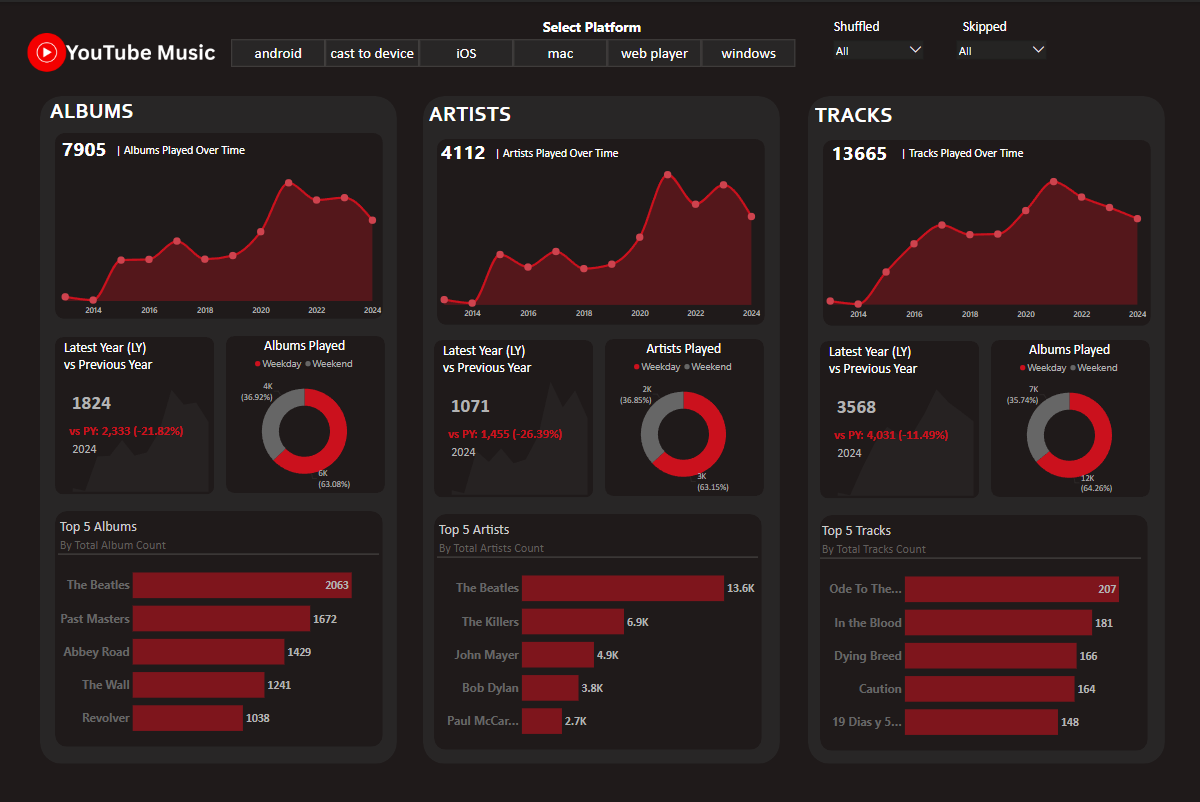

The page's visual inventory and layout, read from the dashboard file:
{"tool":"powerbi","page":{"name":"Main DashBoard","canvas":[3300,2200],"ordinal":0},"visuals":[{"type":"image","box":[46.6,38.4,573.3,200.2],"z":0},{"type":"shape","box":[109.7,257.9,979.3,1832.4],"z":1000},{"type":"textbox","box":[131.7,257.9,260.6,101.5],"z":2000},{"type":"shape","box":[150.9,359.4,899.8,510.2],"z":3000},{"type":"card","fields":{"Values":["yt_history.No of Albums"]},"box":[150.9,359.4,161.8,82.3],"z":4000},{"type":"textbox","box":[312.7,381.3,414.2,60.3],"z":5000},{"type":"shape","box":[150.9,919,437,432],"z":6000},{"type":"areaChart","fields":{"Category":["Date table.Year"],"Y":["yt_history.No of Albums"]},"box":[150.9,441.6,899.8,427.9],"z":7000},{"type":"areaChart","fields":{"Category":["Date table.Year"],"Y":["yt_history.No of Albums"]},"box":[150.9,1015,436.2,334.7],"z":8000},{"type":"textbox","box":[170.1,919,304.5,118],"z":9000},{"type":"card","fields":{"Values":["yt_history.CurrentYearAlbums"]},"box":[170.1,1053.4,161.8,82.3],"z":10000},{"type":"card","fields":{"Values":["yt_history.PY and YOY Albums KPI"]},"box":[170.1,1132.9,351.1,82.3],"z":11000},{"type":"slicer","fields":{"Values":["yt_history.platform"]},"box":[609,96,1596.5,87.8],"z":12000},{"type":"shape","box":[620,916.2,436.2,430.7],"z":13000},{"type":"card","fields":{"Values":["yt_history.Max Year"]},"box":[150.9,1182.3,161.8,82.3],"z":14000},{"type":"shape","box":[150.9,1396.3,899.8,647.4],"z":15000},{"type":"donutChart","title":"Albums Played","fields":{"Category":["Date table.Weekday_weekend"],"Y":["yt_history.No of Albums"]},"box":[620,919,430.7,427.9],"z":16000},{"type":"barChart","title":"Top 5 Albums","fields":{"Category":["yt_history.album_name"],"Y":["CountNonNull(yt_history.album_name)"]},"box":[159.1,1415.5,880.5,628.2],"z":17000},{"type":"shape","box":[2216.5,257.9,979.3,1832.4],"z":18000},{"type":"shape","box":[1160.3,257.9,979.3,1832.4],"z":19000},{"type":"textbox","box":[1170.3,265.1,260.6,101.5],"z":20000},{"type":"shape","box":[1199.6,376.6,899.8,510.2],"z":21000},{"type":"card","fields":{"Values":["yt_history.No of Artists"]},"box":[1189.6,366.6,161.8,82.3],"z":22000},{"type":"textbox","box":[1351.4,388.6,414.2,60.3],"z":23000},{"type":"shape","box":[1189.6,926.2,437,432],"z":24000},{"type":"areaChart","fields":{"Category":["Date table.Year"],"Y":["yt_history.No of Artists"]},"box":[1189.6,448.9,899.8,427.9],"z":25000},{"type":"areaChart","fields":{"Category":["Date table.Year"],"Y":["yt_history.No of Artists"]},"box":[1189.6,1022.2,436.2,334.7],"z":26000},{"type":"textbox","box":[1208.8,926.2,304.5,118],"z":27000},{"type":"card","fields":{"Values":["yt_history.LatestYearArtists"]},"box":[1208.8,1060.6,161.8,82.3],"z":28000},{"type":"card","fields":{"Values":["yt_history.PY and YOY Artists KPI"]},"box":[1208.8,1140.2,351.1,82.3],"z":29000},{"type":"shape","box":[1658.6,923.5,436.2,430.7],"z":30000},{"type":"card","fields":{"Values":["yt_history.Max Year"]},"box":[1189.6,1189.6,161.8,82.3],"z":31000},{"type":"shape","box":[1189.6,1403.5,899.8,647.4],"z":32000},{"type":"donutChart","title":"Artists Played","fields":{"Category":["Date table.Weekday_weekend"],"Y":["yt_history.No of Artists"]},"box":[1658.6,926.2,430.7,427.9],"z":33000},{"type":"barChart","title":"Top 5 Artists","fields":{"Category":["yt_history.artist_name"],"Y":["CountNonNull(yt_history.artist_name)"]},"box":[1197.8,1422.7,880.5,628.2],"z":34000},{"type":"textbox","box":[2229.2,267.9,260.6,101.5],"z":35000},{"type":"shape","box":[2258.4,379.4,899.8,510.2],"z":36000},{"type":"card","fields":{"Values":["yt_history.No of Tracks"]},"box":[2249.4,370.3,216.7,82.3],"z":37000},{"type":"textbox","box":[2466.1,389.5,414.2,60.3],"z":38000},{"type":"shape","box":[2248.4,929,437,432],"z":39000},{"type":"areaChart","fields":{"Category":["Date table.Year"],"Y":["yt_history.No of Tracks"]},"box":[2248.4,451.6,899.8,427.9],"z":40000},{"type":"areaChart","fields":{"Category":["Date table.Year"],"Y":["yt_history.No of Tracks"]},"box":[2248.4,1025,436.2,334.7],"z":41000},{"type":"textbox","box":[2267.6,929,304.5,118],"z":42000},{"type":"card","fields":{"Values":["yt_history.LatestYearTracks"]},"box":[2267.6,1063.4,161.8,82.3],"z":43000},{"type":"card","fields":{"Values":["yt_history.PY and YOY Tracks KPI"]},"box":[2267.6,1142.9,351.1,82.3],"z":44000},{"type":"shape","box":[2717.5,926.2,436.2,430.7],"z":45000},{"type":"card","fields":{"Values":["yt_history.Max Year"]},"box":[2248.4,1192.3,161.8,82.3],"z":46000},{"type":"shape","box":[2248.4,1406.3,899.8,647.4],"z":47000},{"type":"donutChart","title":"Albums Played","fields":{"Category":["Date table.Weekday_weekend"],"Y":["yt_history.No of Tracks"]},"box":[2717.5,929,430.7,427.9],"z":48000},{"type":"barChart","title":"Top 5 Tracks","fields":{"Category":["yt_history.track_name"],"Y":["CountNonNull(yt_history.track_name)"]},"box":[2249.4,1426.4,880.5,628.2],"z":49000},{"type":"textbox","box":[1484,38.4,331.9,71.3],"z":50000},{"type":"slicer","fields":{"Values":["yt_history.shuffle"]},"box":[2276.8,96,266.1,76.8],"z":51000},{"type":"slicer","fields":{"Values":["yt_history.skipped"]},"box":[2614.2,96,266.1,76.8],"z":52000},{"type":"textbox","box":[2282.3,38.4,161.8,60.3],"z":53000},{"type":"textbox","box":[2636.2,38.4,161.8,60.3],"z":54000}]}

Visuals, with their boxes in screenshot pixels (x1, y1, x2, y2), scaled from the page's 3300x2200 canvas onto the 1200x802 screenshot:
image: [17, 14, 225, 87]
shape: [40, 94, 396, 762]
textbox: [48, 94, 143, 131]
shape: [55, 131, 382, 317]
card - yt_history.No of Albums: [55, 131, 114, 161]
textbox: [114, 139, 264, 161]
shape: [55, 335, 214, 493]
areaChart - Date table.Year x yt_history.No of Albums: [55, 161, 382, 317]
areaChart - Date table.Year x yt_history.No of Albums: [55, 370, 213, 492]
textbox: [62, 335, 173, 378]
card - yt_history.CurrentYearAlbums: [62, 384, 121, 414]
card - yt_history.PY and YOY Albums KPI: [62, 413, 190, 443]
slicer - yt_history.platform: [221, 35, 802, 67]
shape: [225, 334, 384, 491]
card - yt_history.Max Year: [55, 431, 114, 461]
shape: [55, 509, 382, 745]
"Albums Played" donutChart: [225, 335, 382, 491]
"Top 5 Albums" barChart: [58, 516, 378, 745]
shape: [806, 94, 1162, 762]
shape: [422, 94, 778, 762]
textbox: [426, 97, 520, 134]
shape: [436, 137, 763, 323]
card - yt_history.No of Artists: [433, 134, 491, 164]
textbox: [491, 142, 642, 164]
shape: [433, 338, 591, 495]
areaChart - Date table.Year x yt_history.No of Artists: [433, 164, 760, 320]
areaChart - Date table.Year x yt_history.No of Artists: [433, 373, 591, 495]
textbox: [440, 338, 550, 381]
card - yt_history.LatestYearArtists: [440, 387, 498, 417]
card - yt_history.PY and YOY Artists KPI: [440, 416, 567, 446]
shape: [603, 337, 762, 494]
card - yt_history.Max Year: [433, 434, 491, 464]
shape: [433, 512, 760, 748]
"Artists Played" donutChart: [603, 338, 760, 494]
"Top 5 Artists" barChart: [436, 519, 756, 748]
textbox: [811, 98, 905, 135]
shape: [821, 138, 1148, 324]
card - yt_history.No of Tracks: [818, 135, 897, 165]
textbox: [897, 142, 1047, 164]
shape: [818, 339, 977, 496]
areaChart - Date table.Year x yt_history.No of Tracks: [818, 165, 1145, 321]
areaChart - Date table.Year x yt_history.No of Tracks: [818, 374, 976, 496]
textbox: [825, 339, 935, 382]
card - yt_history.LatestYearTracks: [825, 388, 883, 418]
card - yt_history.PY and YOY Tracks KPI: [825, 417, 952, 447]
shape: [988, 338, 1147, 495]
card - yt_history.Max Year: [818, 435, 876, 465]
shape: [818, 513, 1145, 749]
"Albums Played" donutChart: [988, 339, 1145, 495]
"Top 5 Tracks" barChart: [818, 520, 1138, 749]
textbox: [540, 14, 660, 40]
slicer - yt_history.shuffle: [828, 35, 925, 63]
slicer - yt_history.skipped: [951, 35, 1047, 63]
textbox: [830, 14, 889, 36]
textbox: [959, 14, 1017, 36]
